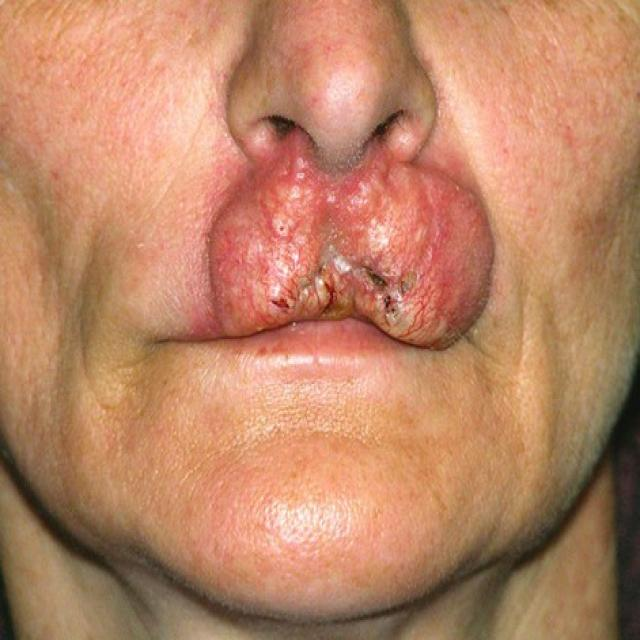Cancer: (207, 148, 486, 364)
